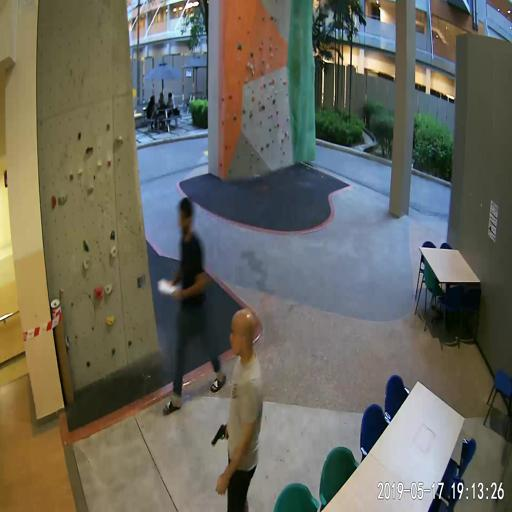pistol: (211, 421, 228, 446)
